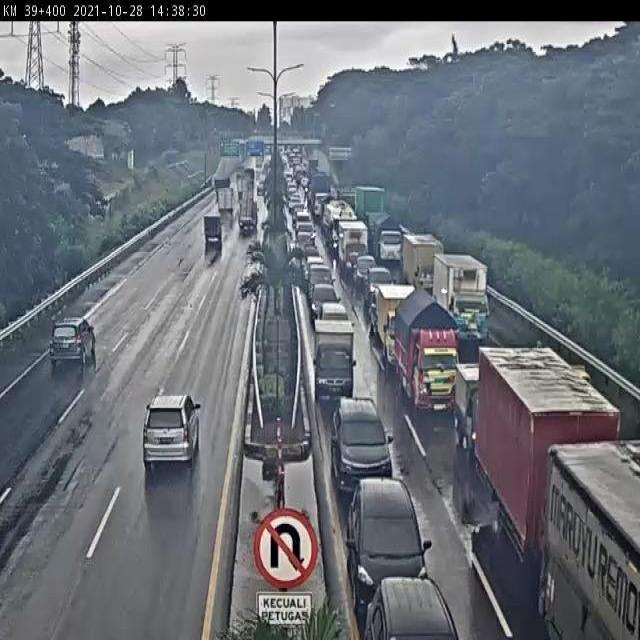big truck: (479, 348, 582, 551), (338, 223, 367, 268), (376, 216, 401, 263)
car: (346, 478, 425, 574), (373, 578, 458, 640), (129, 195, 187, 282), (331, 396, 389, 472), (142, 391, 200, 465), (311, 320, 356, 395), (48, 312, 97, 368), (317, 300, 350, 327), (366, 267, 387, 308), (311, 284, 338, 313), (204, 215, 224, 245), (307, 267, 333, 289), (356, 253, 373, 284), (303, 242, 319, 258), (296, 221, 314, 235), (297, 231, 311, 248), (308, 255, 323, 269), (295, 210, 311, 222), (290, 196, 302, 211), (324, 269, 325, 271)
small truck: (398, 301, 455, 407), (438, 253, 490, 343), (458, 363, 486, 453), (377, 284, 404, 356), (404, 235, 437, 293), (239, 197, 258, 232), (218, 187, 233, 210), (236, 172, 247, 195), (256, 171, 267, 193), (215, 175, 227, 192), (246, 165, 256, 184)
